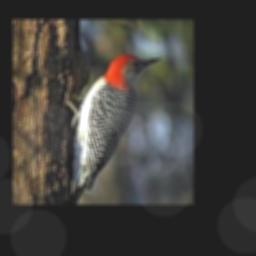Woodpecker: (69, 54, 161, 205)
